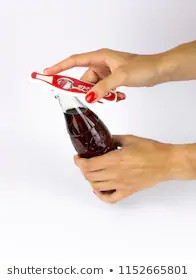coke-glass-bottle: (51, 88, 122, 208)
